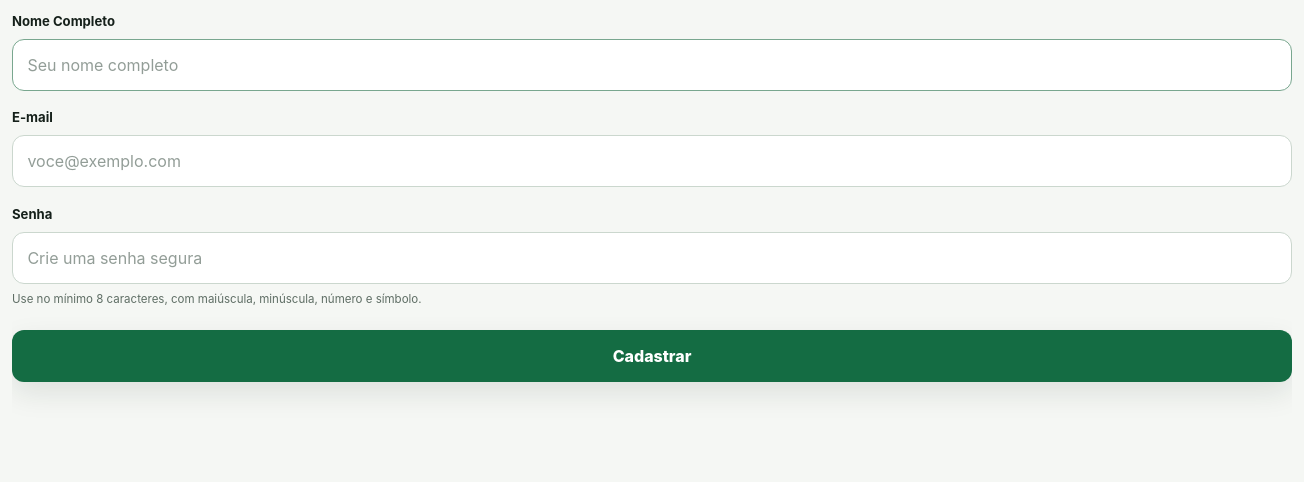
Test: formulários BFF same-origin › cadastro traduz conflito sem exibir o detail do backend
Type "Usuário" into the field labelled "Nome Completo" at x=652, y=65, box 12,39 -> 1292,91
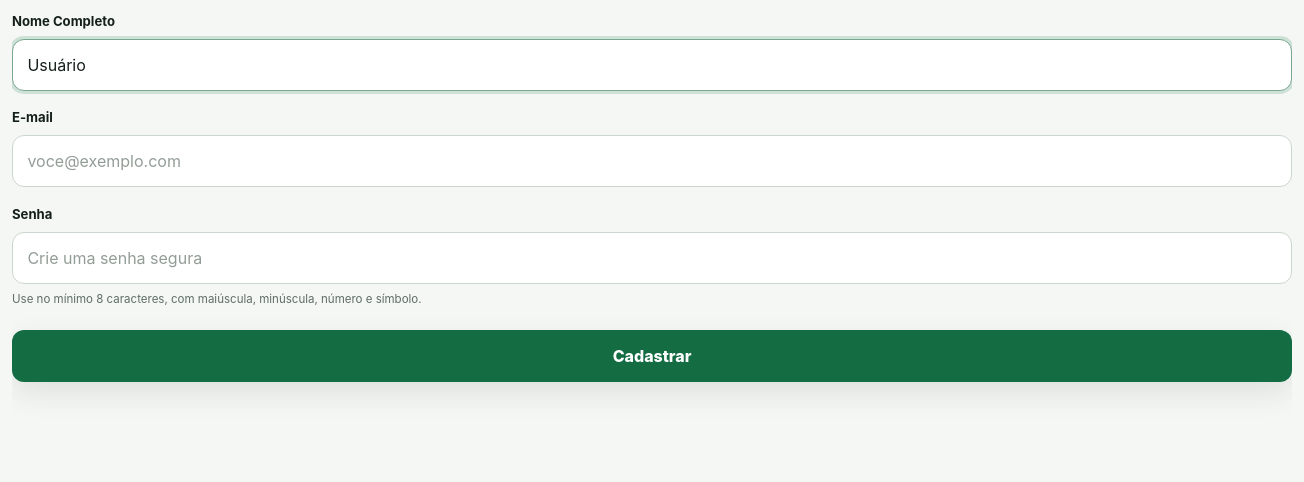
Type "user@example.test" into the field labelled "E-mail" at x=652, y=161, box 12,135 -> 1292,187
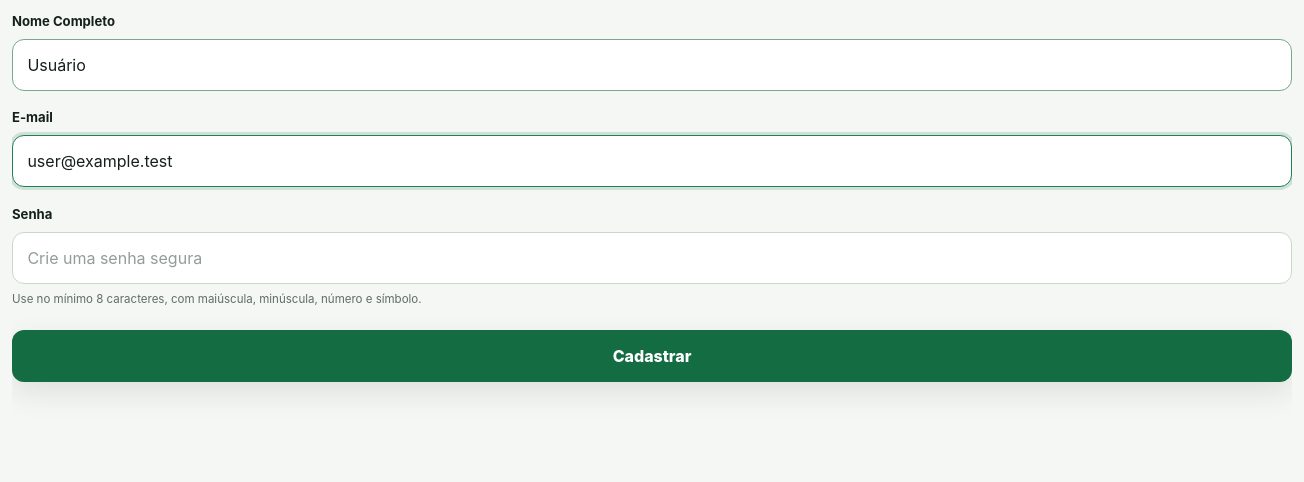
Type "Password1!" into the password field labelled "Senha" at x=652, y=258, box 12,232 -> 1292,284
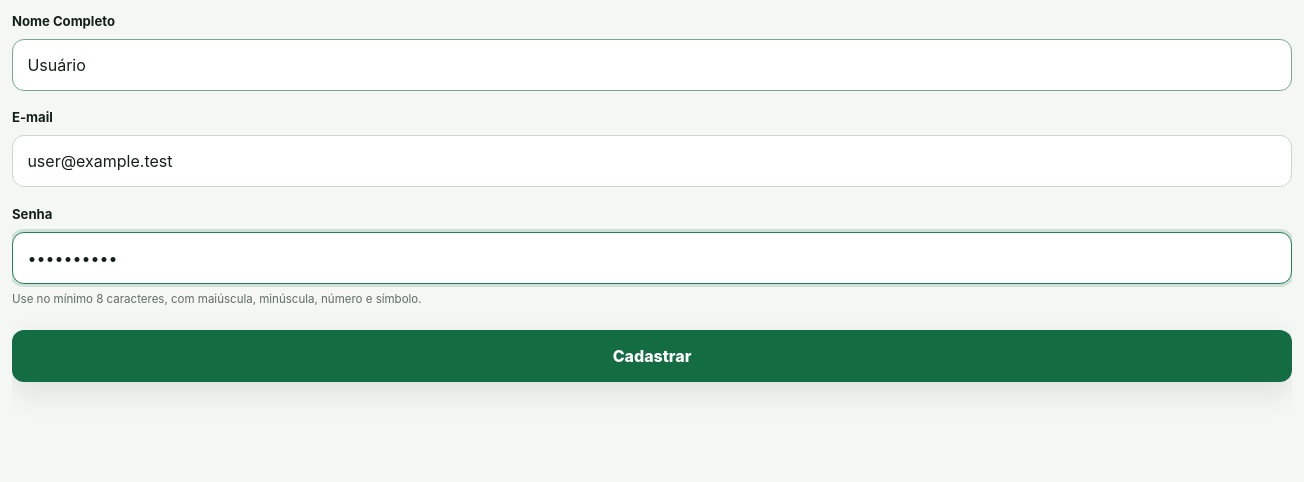
Click the button "Cadastrar" at x=652, y=356, box 12,330 -> 1292,382
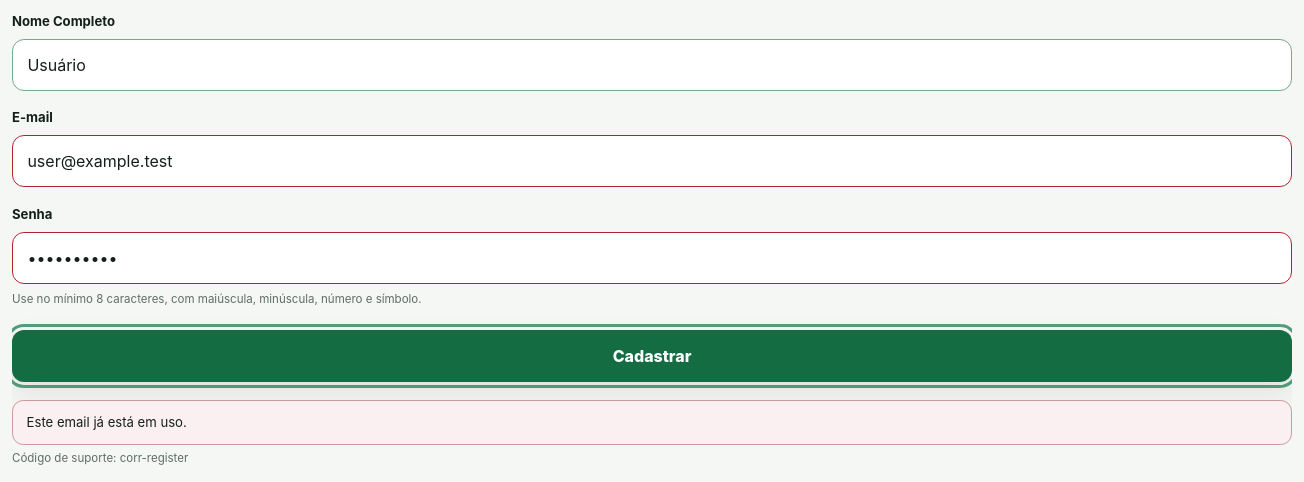
Check: the message reads "Este email já está em uso.", box 27,414 -> 187,430
Check: the text "Código de suporte: corr-register" is shown, box 12,451 -> 188,465
